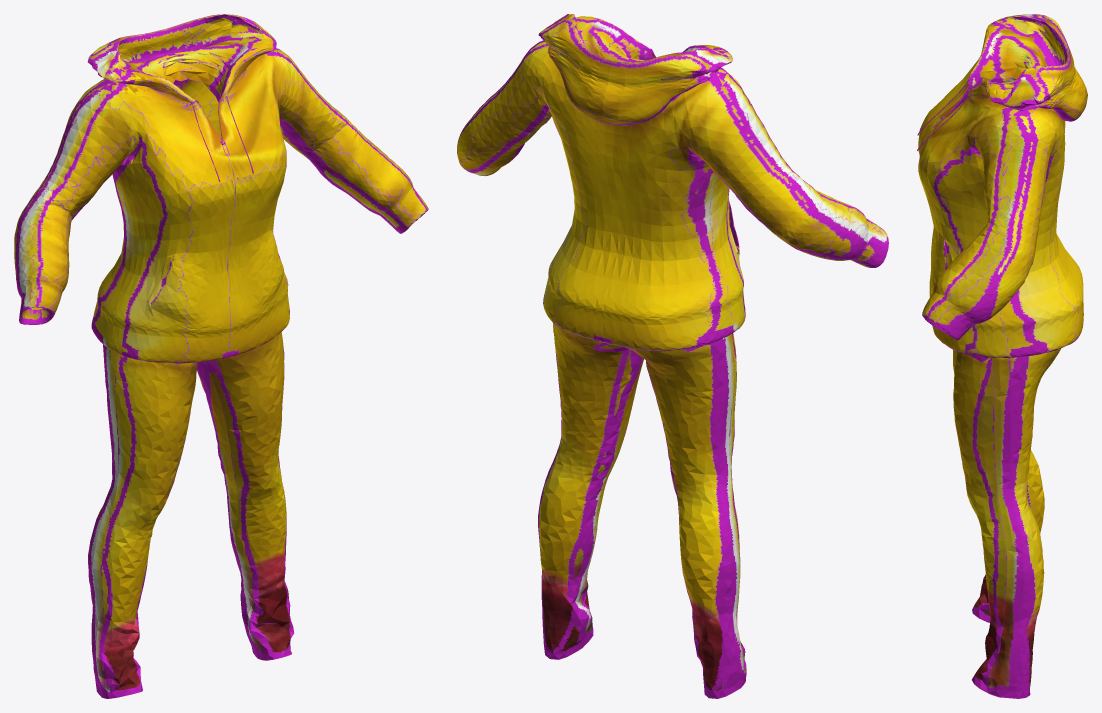
3 views of the same model, side by side, from view 1: azimuth 30°, elevation 25°; view 2: azimuth 150°, elevation 25°; view 3: azimuth 270°, elevation 25° (orthographic). The views are drawn at different scales.
Size of the model in its own units: 0.5647 by 0.8438 by 0.2119.
Materials: 1 (1 with a texture image).
